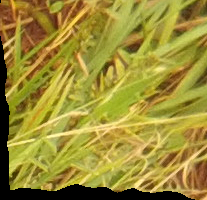grass: (1, 1, 206, 199)
